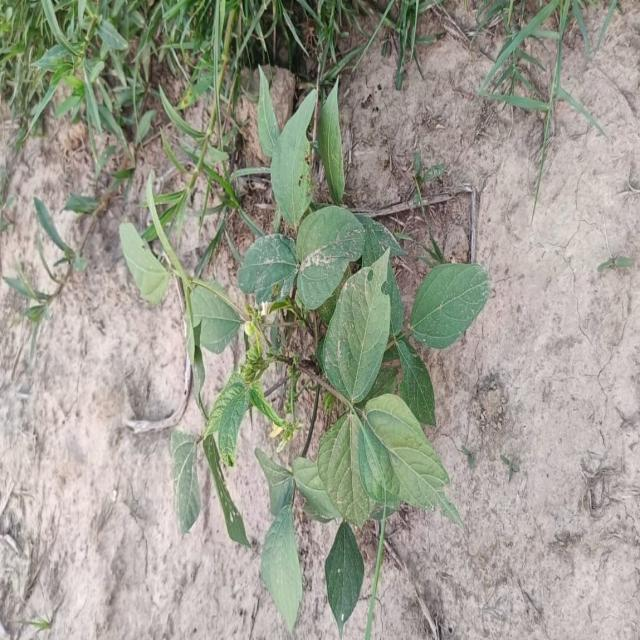plant: (120, 76, 490, 638)
